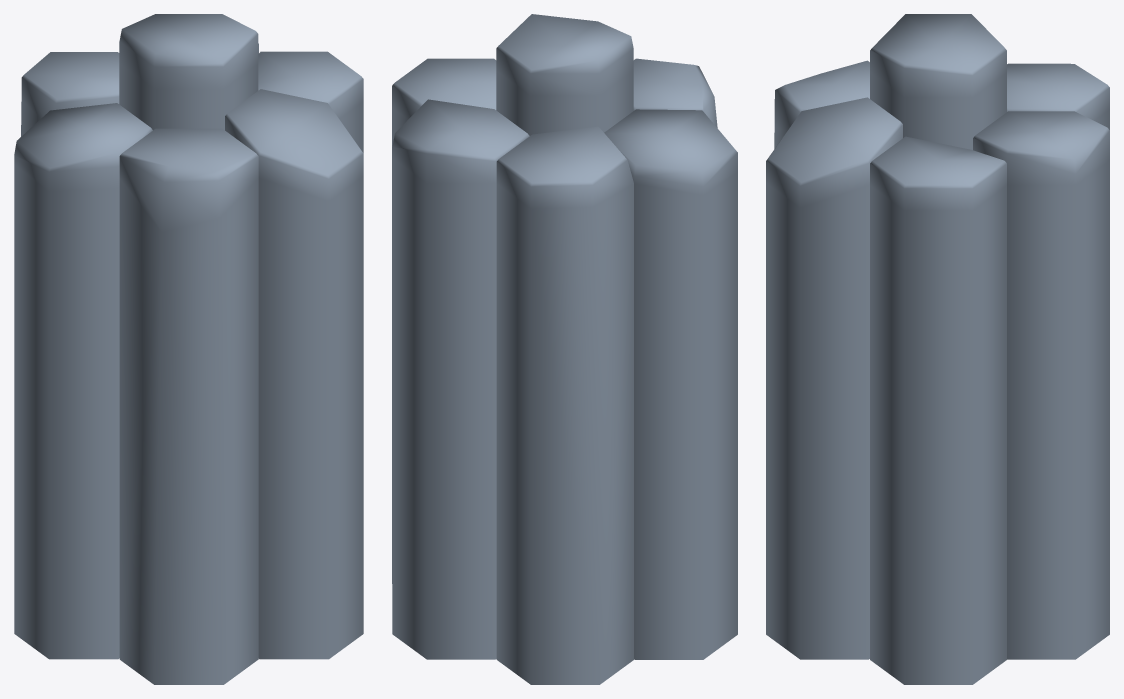
Rendered from HexVariation3.fbx.
3 views of the same model, side by side, from view 1: azimuth 30°, elevation 25°; view 2: azimuth 150°, elevation 25°; view 3: azimuth 270°, elevation 25° (orthographic).
Visible parts, largest first — view 1: Cylinder.006, Cylinder.002, Cylinder.001, Cylinder.003, Cylinder.005, Cylinder.000; view 2: Cylinder.005, Cylinder.004, Cylinder.001, Cylinder.003, Cylinder.000, Cylinder.006; view 3: Cylinder.000, Cylinder.002, Cylinder.004, Cylinder.003, Cylinder.005, Cylinder.006.
Part boxes in pixels (x1,y1,x2,y2): Cylinder.006: [119, 128, 258, 684]; Cylinder.002: [225, 89, 363, 659]; Cylinder.001: [14, 103, 152, 659]; Cylinder.003: [119, 14, 258, 130]; Cylinder.005: [21, 52, 119, 136]; Cylinder.000: [258, 51, 363, 152]; Cylinder.005: [496, 126, 633, 684]; Cylinder.004: [392, 99, 529, 659]; Cylinder.001: [604, 109, 737, 659]; Cylinder.003: [496, 14, 633, 135]; Cylinder.000: [392, 58, 496, 583]; Cylinder.006: [633, 58, 717, 127]; Cylinder.000: [870, 136, 1006, 684]; Cylinder.002: [766, 97, 902, 659]; Cylinder.004: [973, 111, 1109, 659]; Cylinder.003: [870, 14, 1006, 149]; Cylinder.005: [1007, 63, 1109, 129]; Cylinder.006: [774, 60, 869, 148].
Bounding box in the file's own units: 520 × 915 × 499.
